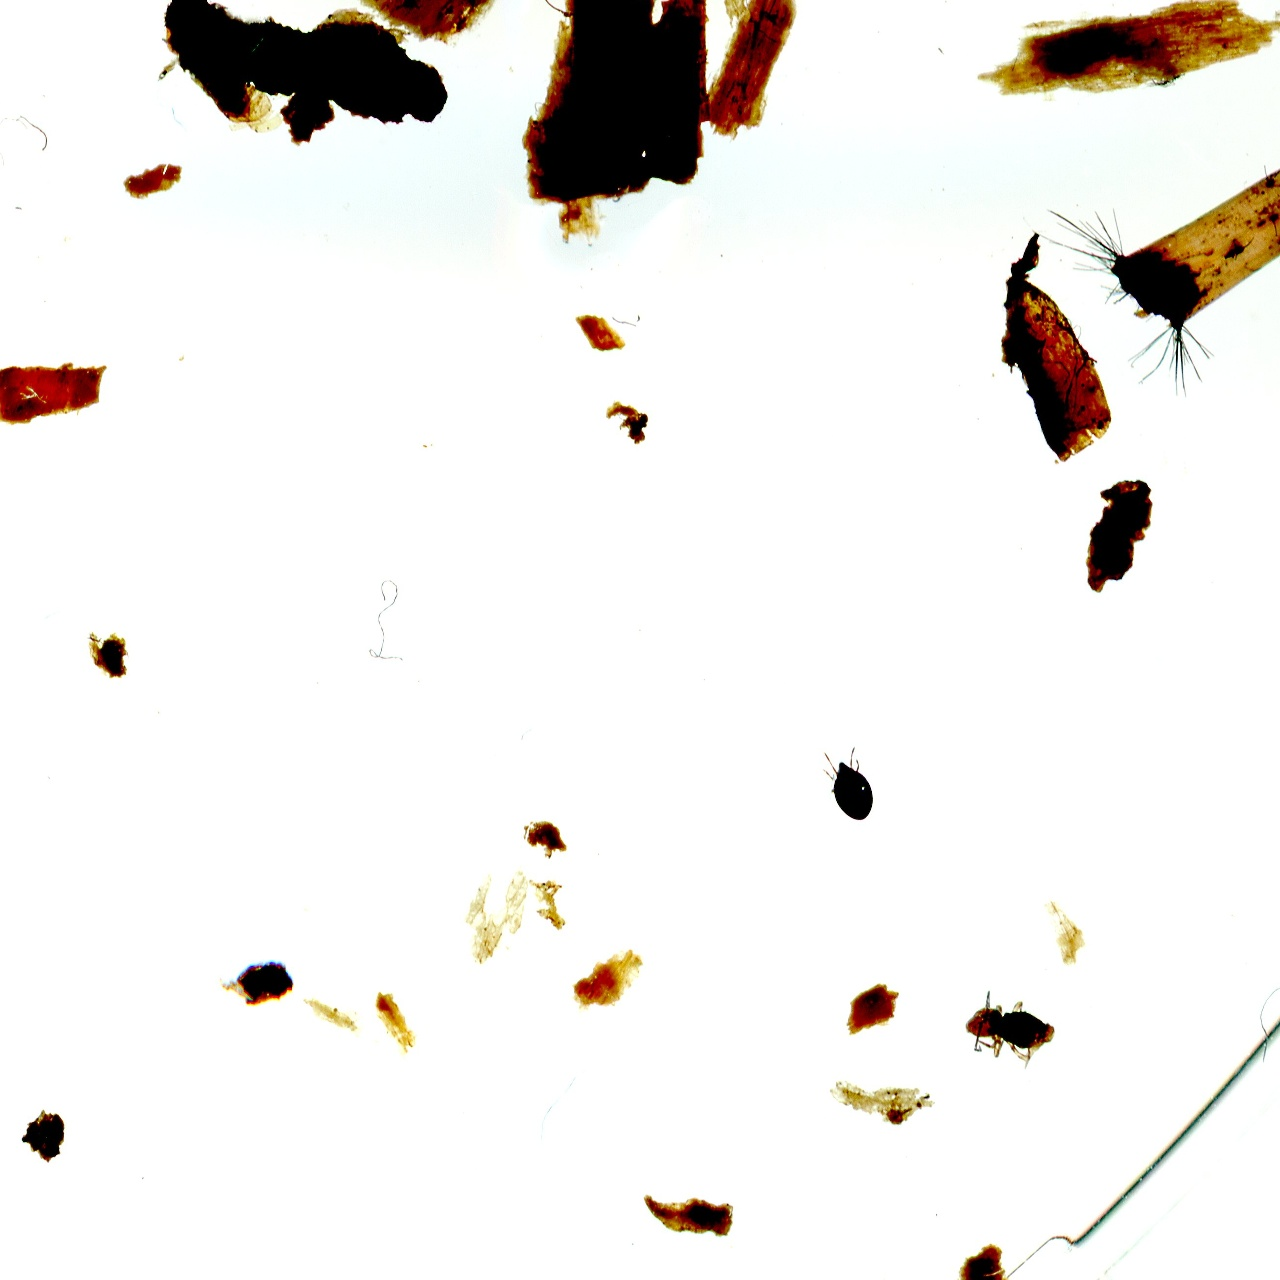arthropod: (964, 986, 1064, 1074), (817, 742, 877, 827)
